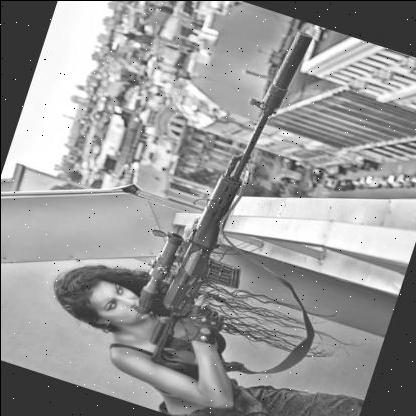rifle: (109, 0, 350, 388)
